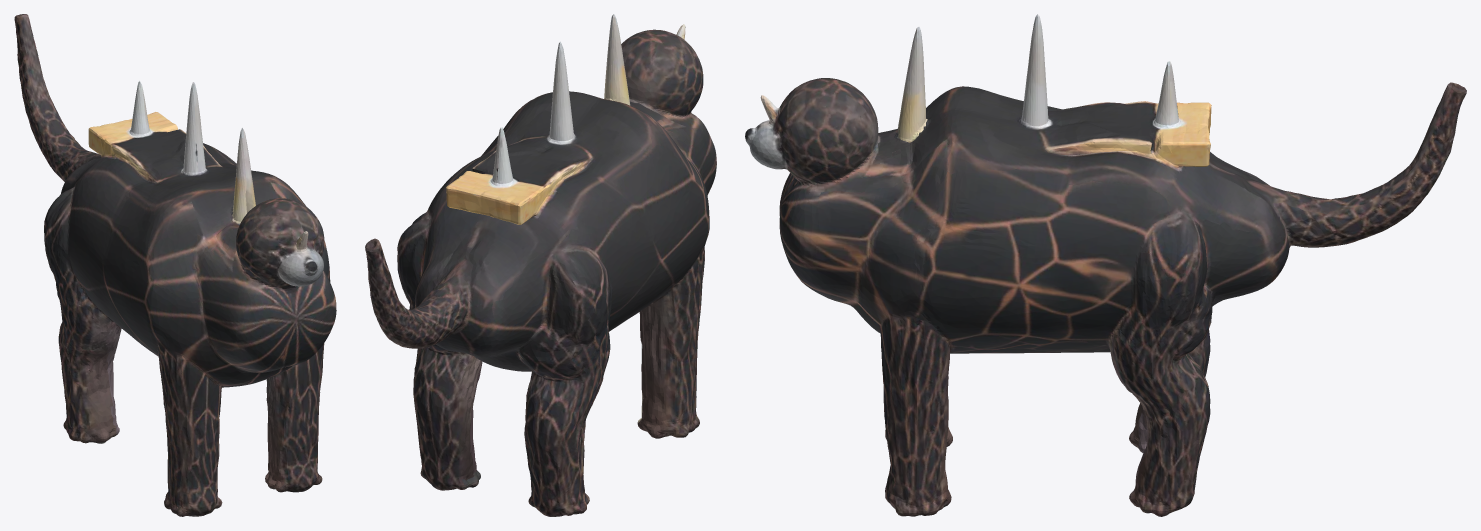
Rendered from creature-051.glb.
3 renders of one model, left to right at view 1: azimuth 30°, elevation 25°; view 2: azimuth 150°, elevation 25°; view 3: azimuth 270°, elevation 25°, orthographic. The views are drawn at different scales.
Parts seen in each view (by area): view 1: tmpxu6xf7i7.ply; view 2: tmpxu6xf7i7.ply; view 3: tmpxu6xf7i7.ply.
Part boxes in pixels (box(x1,y1,x2,y2)): tmpxu6xf7i7.ply: box(14, 14, 336, 516); tmpxu6xf7i7.ply: box(365, 14, 716, 516); tmpxu6xf7i7.ply: box(745, 14, 1466, 516).
Bounding box in the file's own units: 0.718 × 1.41 × 1.99.
1 material, 1 textured.
